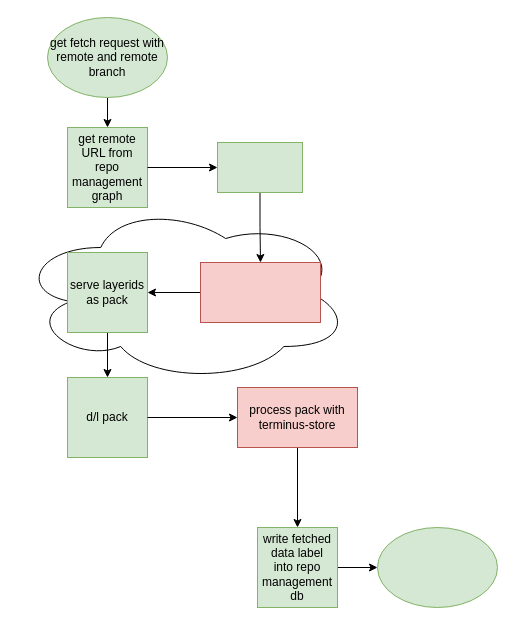
This 515x625 diagram has some shape labels left out. Here are the shapes that lost their labels. From the top down, the centre of each, then its label:
At (x=259, y=167): "send list of layerids and current head".
At (x=260, y=292): "compare layer ids to see which to serve".
At (x=437, y=567): "report to user".
